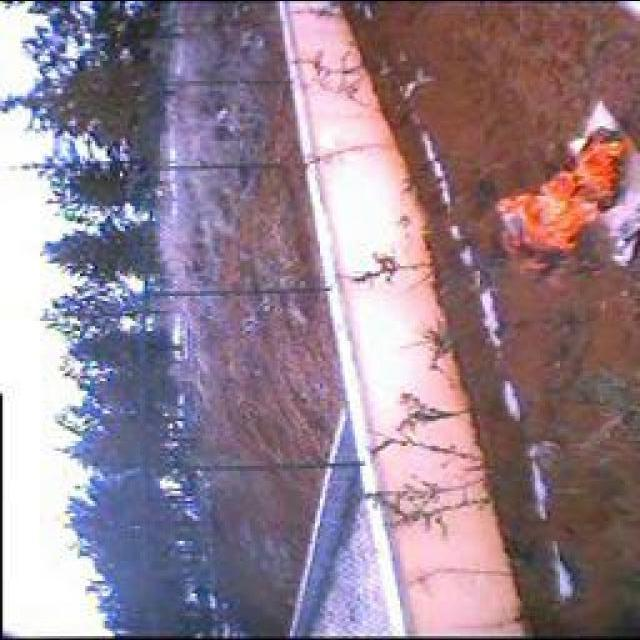Fire: (498, 122, 638, 266)
